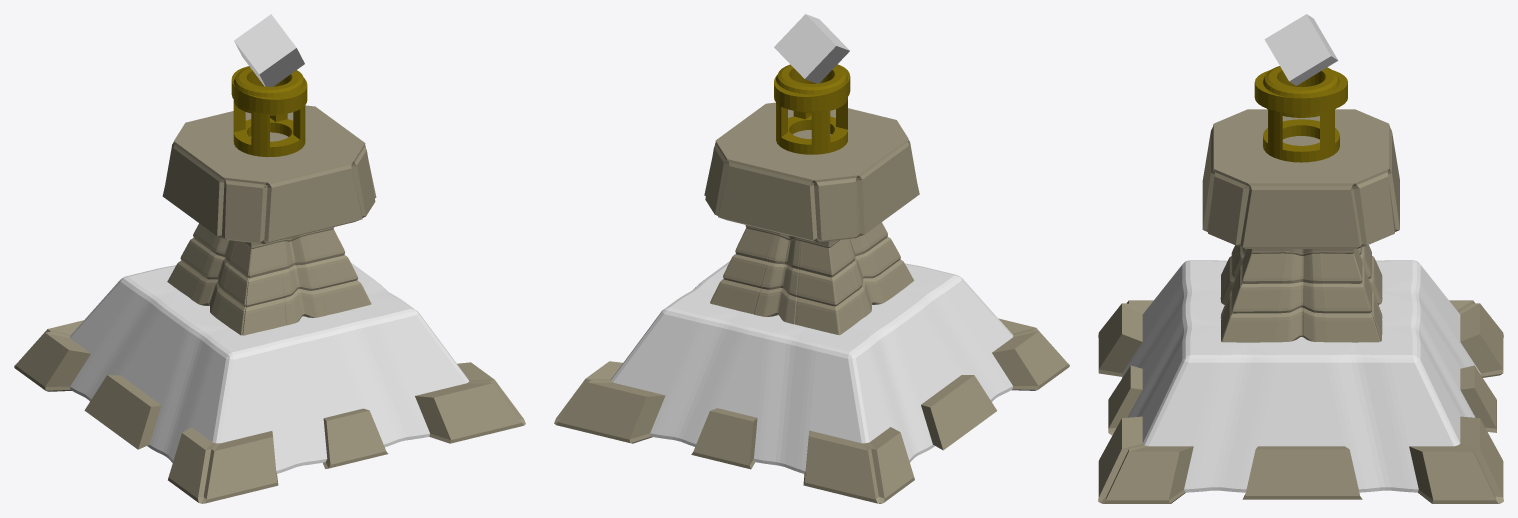
Rendered from Level3.fbx.
3 views of the same model, side by side, from view 1: azimuth 30°, elevation 25°; view 2: azimuth 150°, elevation 25°; view 3: azimuth 270°, elevation 25° (orthographic). The views are drawn at different scales.
Parts seen in each view (by area): view 1: base, Cube.002; view 2: base, Cube.002; view 3: base, Cube.002.
Boxes of the visible parts, x1,y1,x2,y2 form: base: (14,66,525,503); Cube.002: (234,14,304,86); base: (554,64,1069,503); Cube.002: (774,14,849,83); base: (1098,66,1503,503); Cube.002: (1264,14,1338,85).
Bounding box in the file's own units: 304 × 338 × 304.
